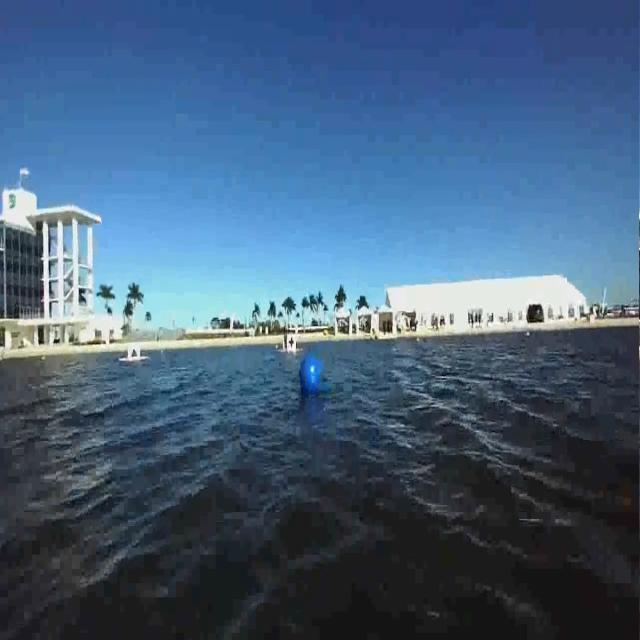blue-buoy: (300, 340, 327, 390)
